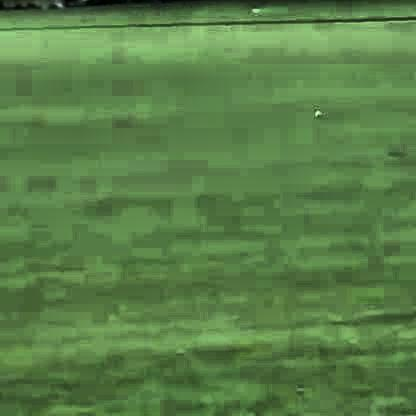golfball: (309, 106, 319, 117)
